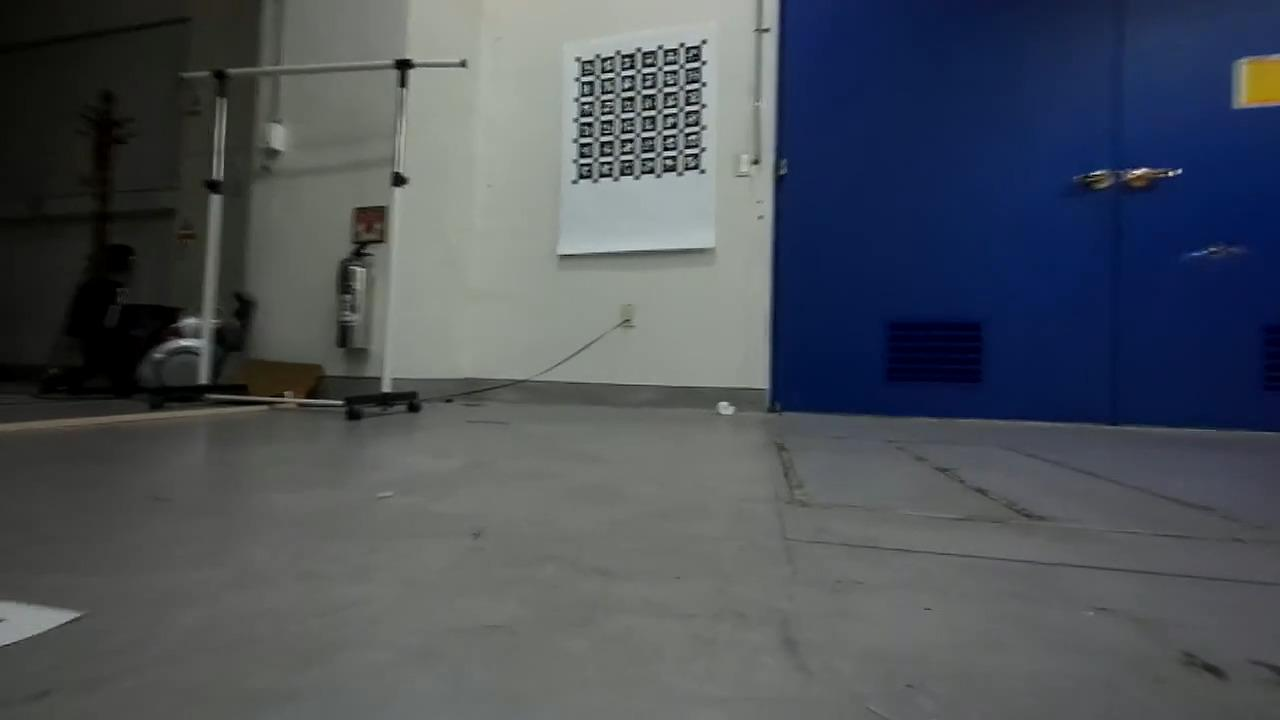crazyflie: (1179, 237, 1253, 266)
